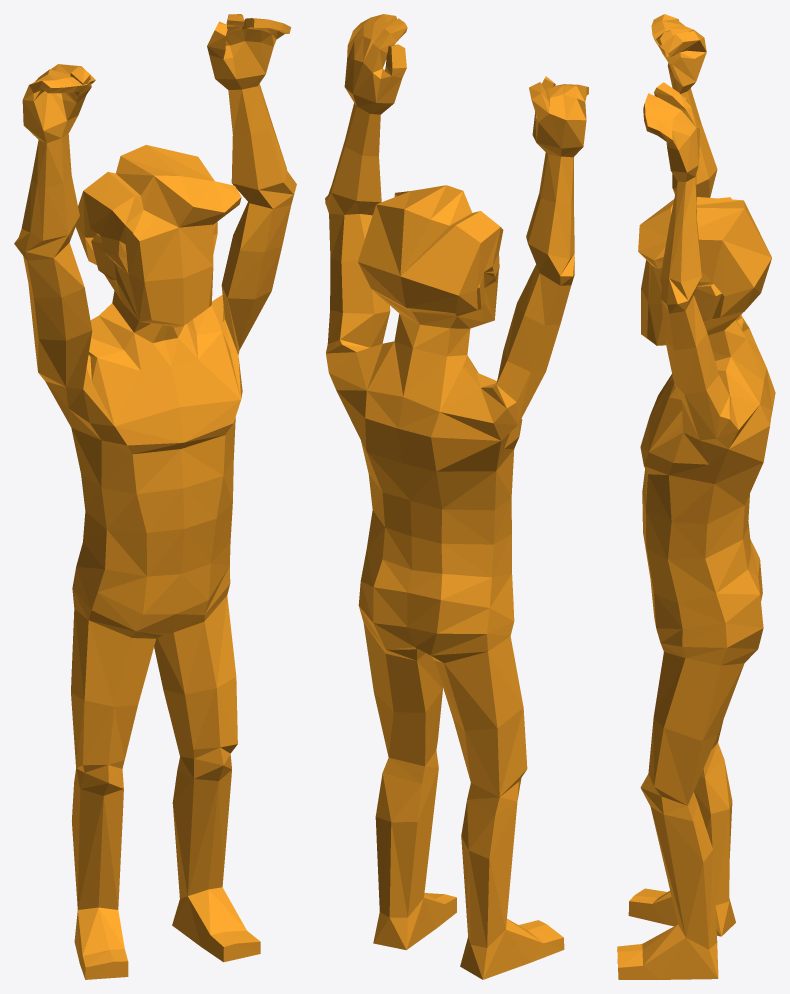
The model's file is SM_Pawn_Handsup_Male_01.fbx.
3 views of the same model, side by side, from view 1: azimuth 30°, elevation 25°; view 2: azimuth 150°, elevation 25°; view 3: azimuth 270°, elevation 25° (orthographic). The views are drawn at different scales.
Visible parts, largest first — view 1: SM_Pawn_Handsup_Male_01; view 2: SM_Pawn_Handsup_Male_01; view 3: SM_Pawn_Handsup_Male_01.
Boxes of the visible parts, box(x1,y1,x2,y2) form: SM_Pawn_Handsup_Male_01: box(14, 14, 296, 979); SM_Pawn_Handsup_Male_01: box(325, 14, 588, 979); SM_Pawn_Handsup_Male_01: box(617, 14, 775, 979).
Size of the model in its own units: 66.99 by 218 by 34.98.
